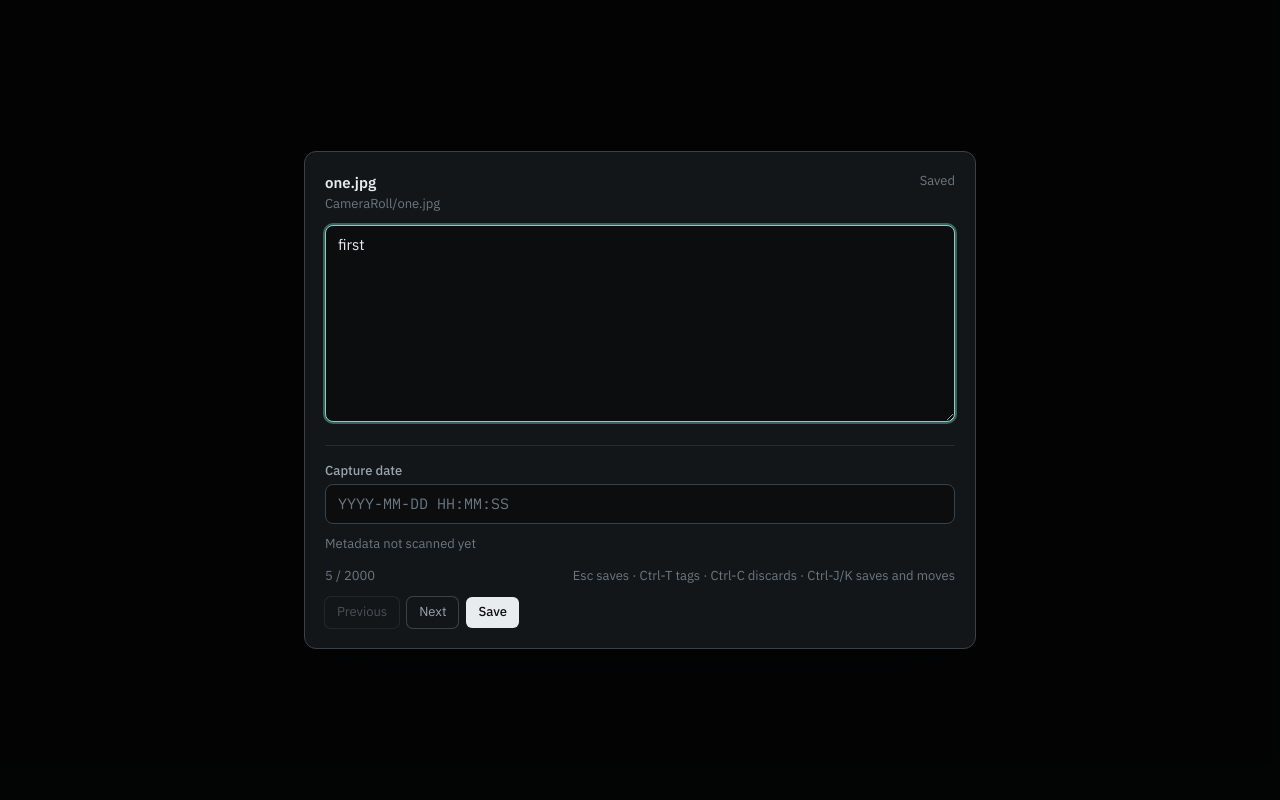
it: DescriptionEditor › should keep an impossible manual capture date local and explain the format
This screenshot has width=1280, height=800.
Later steps or results of the test are not shown.
Type "2024-02-30 03:04:05" into the field named "Capture date for one.jpg". click: (640, 504)
box: [325, 484, 955, 524]
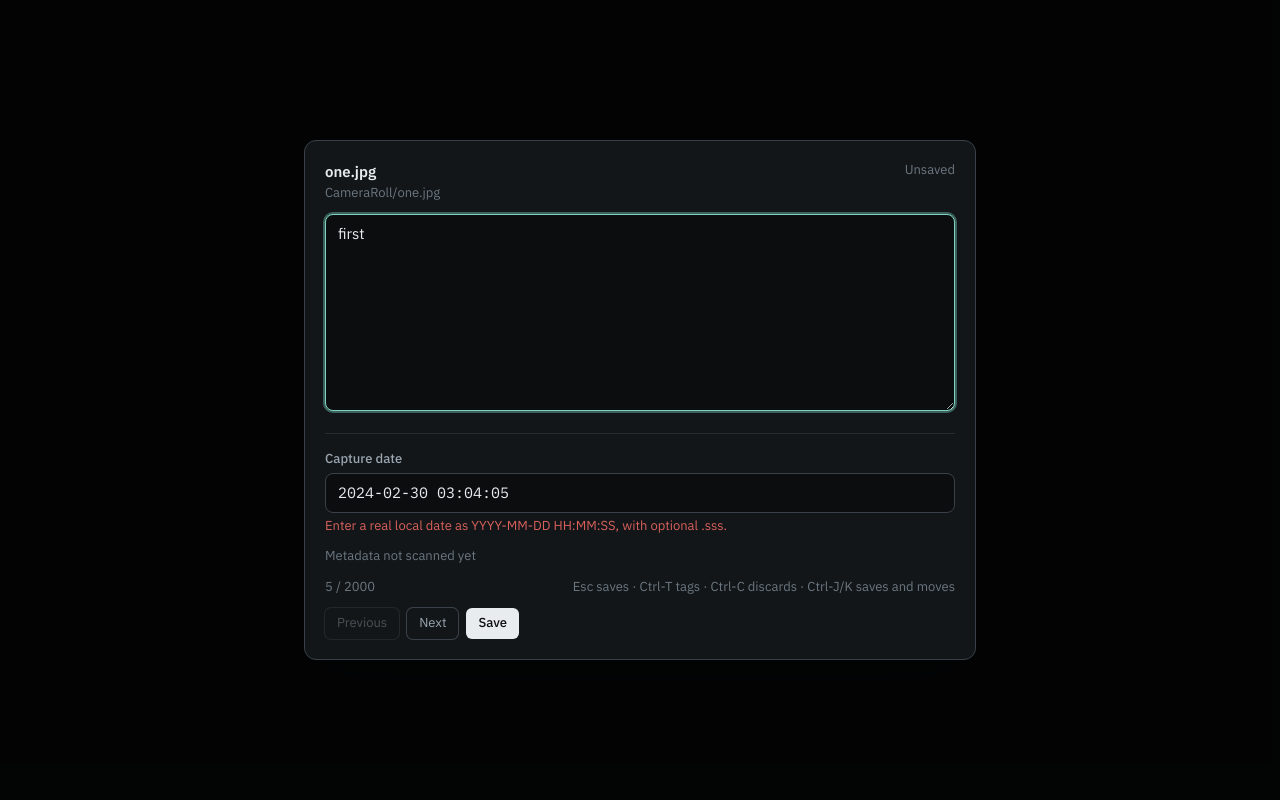
Expected: the message shows "Enter a real local date", [325, 517, 727, 534]
